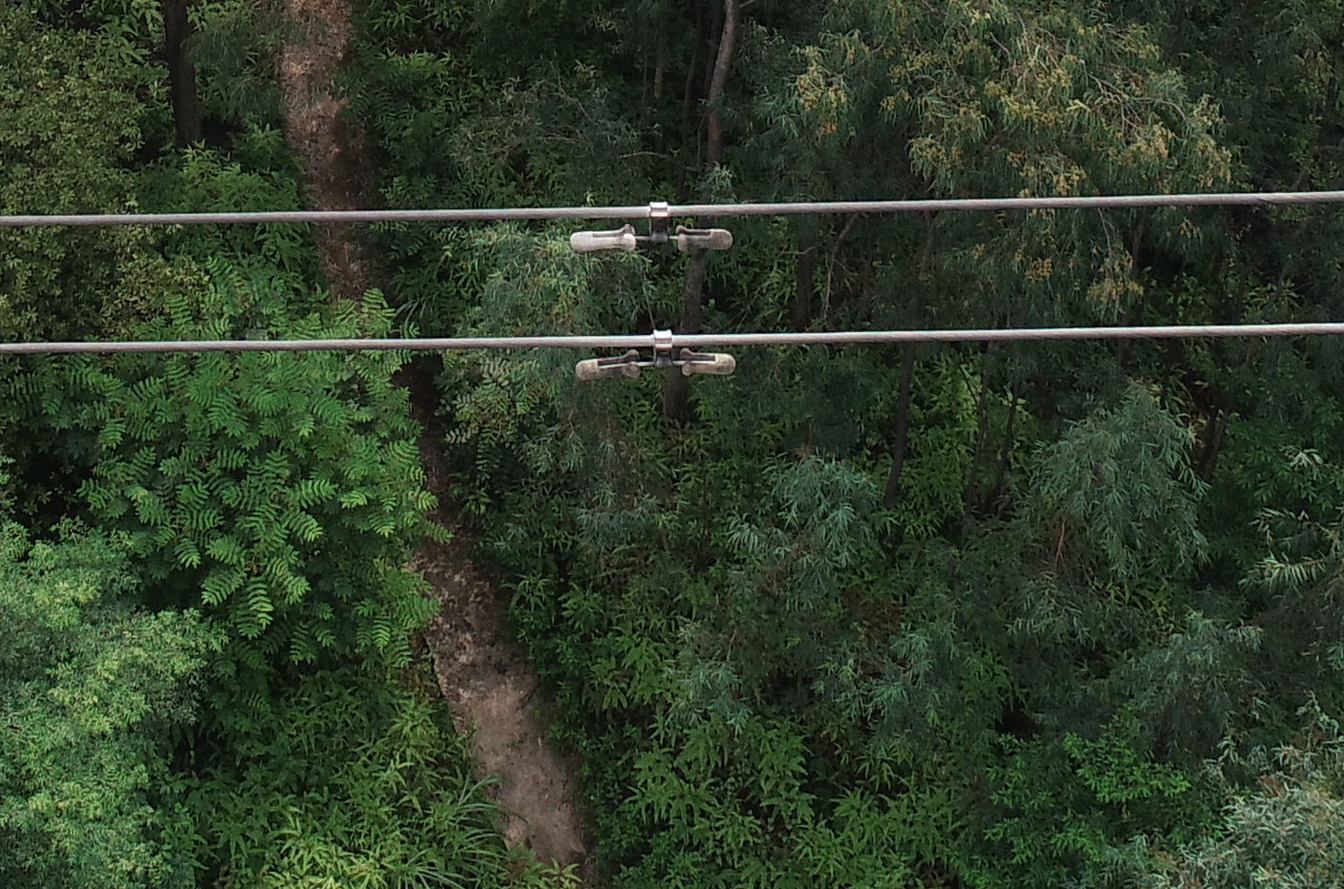damper: (563, 198, 735, 254), (575, 326, 738, 381)
